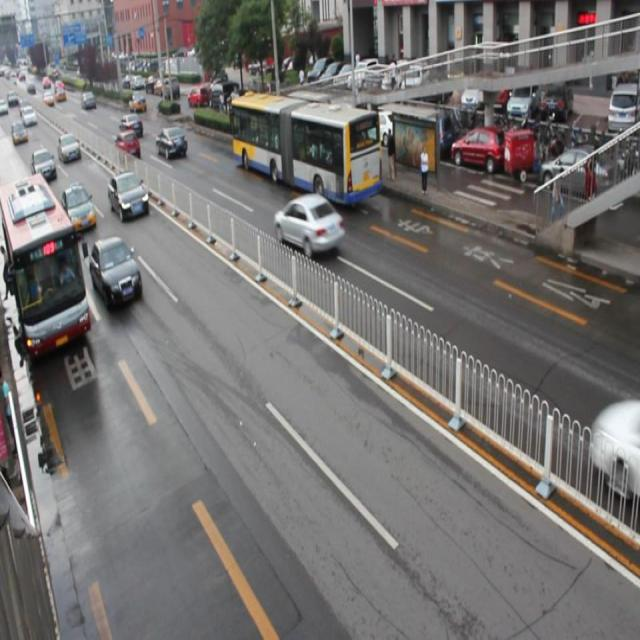car: (274, 194, 343, 255), (92, 234, 142, 308), (108, 170, 148, 220), (61, 179, 95, 233), (155, 127, 188, 161), (114, 128, 141, 160), (32, 149, 56, 183), (121, 113, 144, 137)
van: (229, 92, 381, 204), (0, 174, 90, 358)
